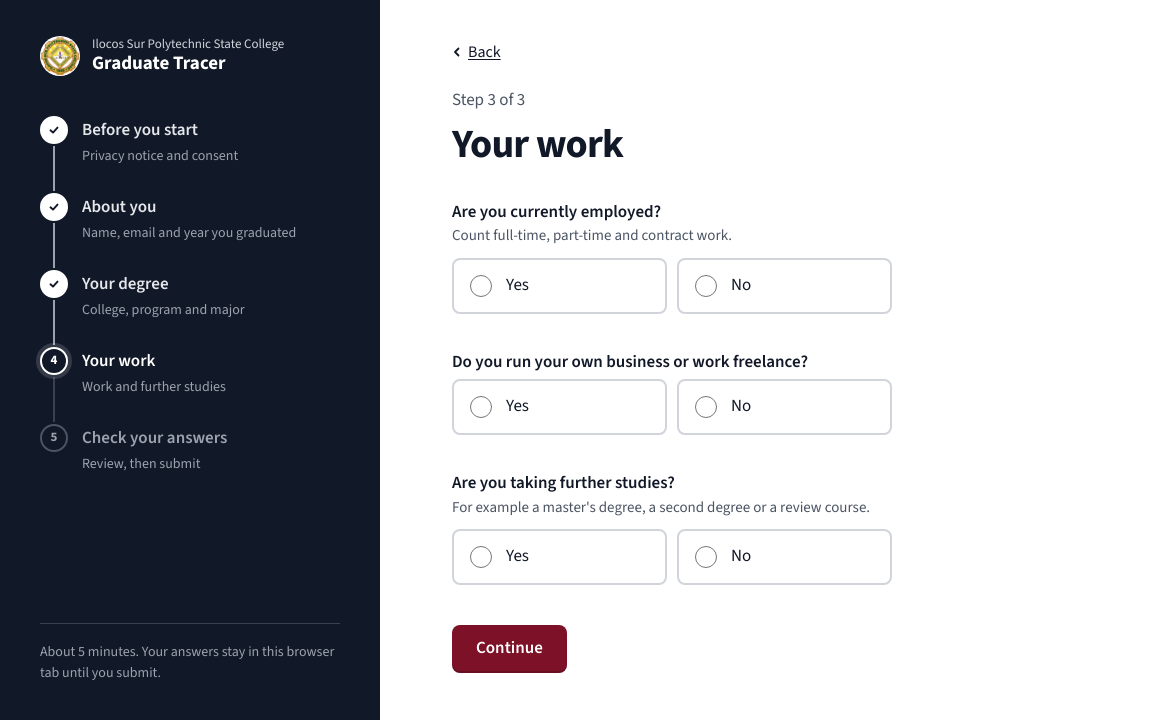
Test: graduate survey › picks an answer by clicking its tile and opens the job questions
Click the text "Yes" below "Are you currently employed?": [518, 286] box [506, 273, 529, 298]
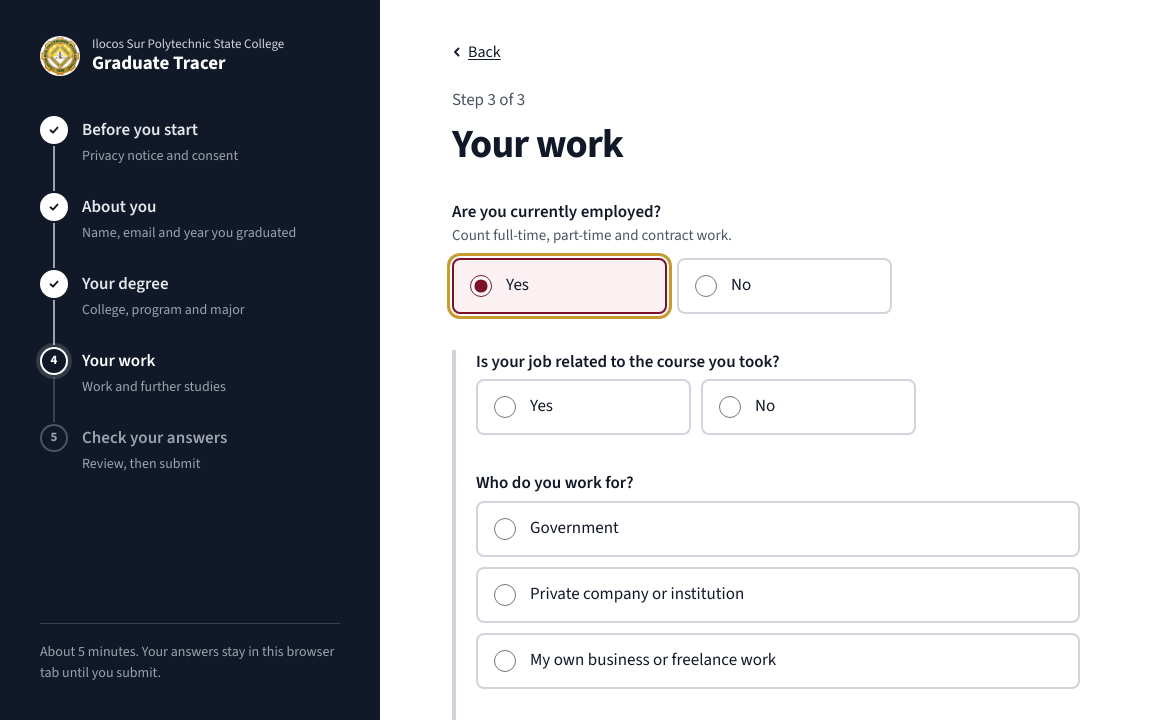
Check: the radio button labelled "Yes" below "Are you currently employed?" is checked, box [470, 274, 492, 296]
Check: the element "Is your job related to the course you took?" is shown, box [476, 350, 916, 435]
